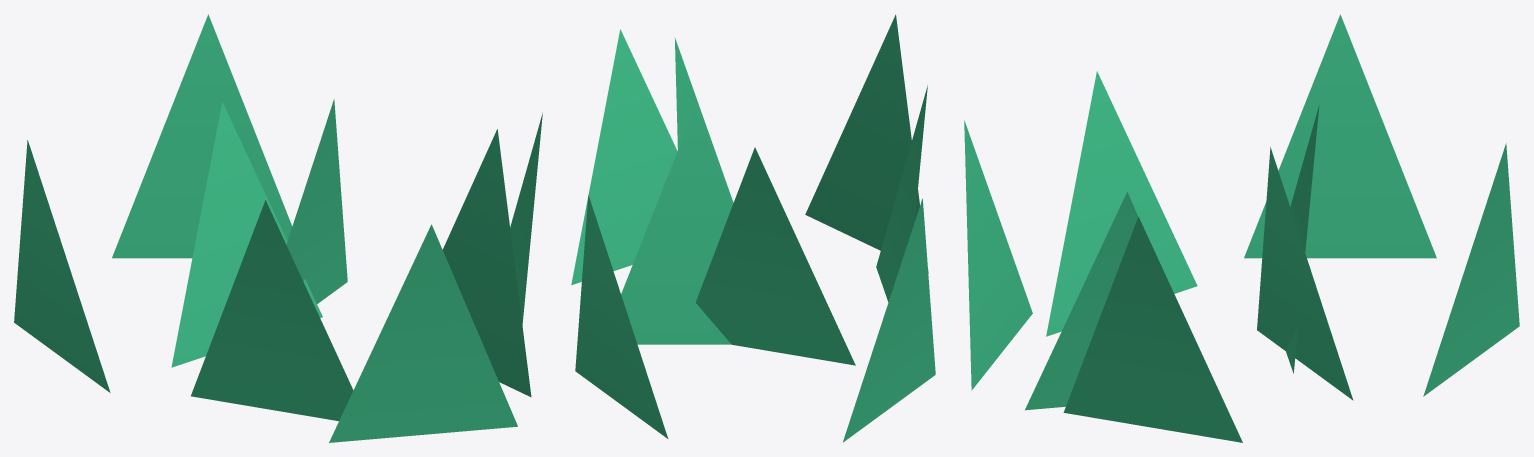
File: Unmowed_High_015_4.glb
3 renders of one model, left to right at view 1: azimuth 30°, elevation 25°; view 2: azimuth 150°, elevation 25°; view 3: azimuth 270°, elevation 25°, orthographic. The views are drawn at different scales.
Visible parts, largest first — view 1: Mowed Grass High LOD; view 2: Mowed Grass High LOD; view 3: Mowed Grass High LOD.
Part boxes in pixels (x1,y1,x2,y2): Mowed Grass High LOD: (14, 14, 542, 442); Mowed Grass High LOD: (571, 14, 935, 442); Mowed Grass High LOD: (964, 14, 1519, 442).
Size of the model in its own units: 0.3814 by 0.2 by 0.4428.
